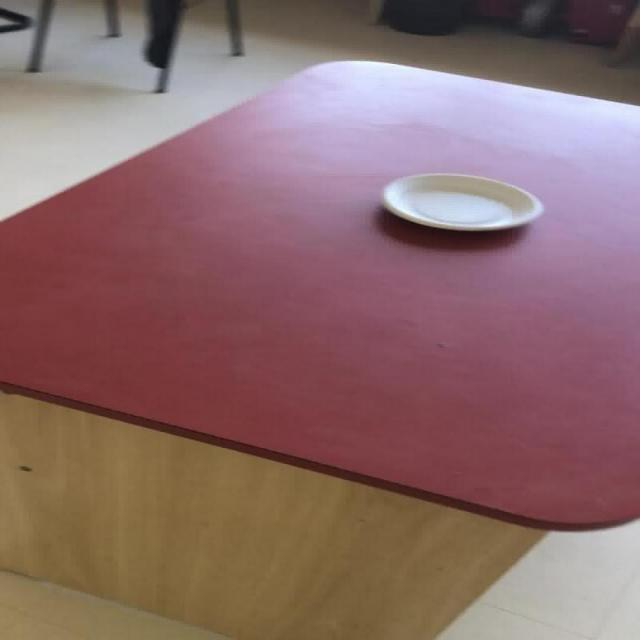Plate: (380, 172, 544, 232)
